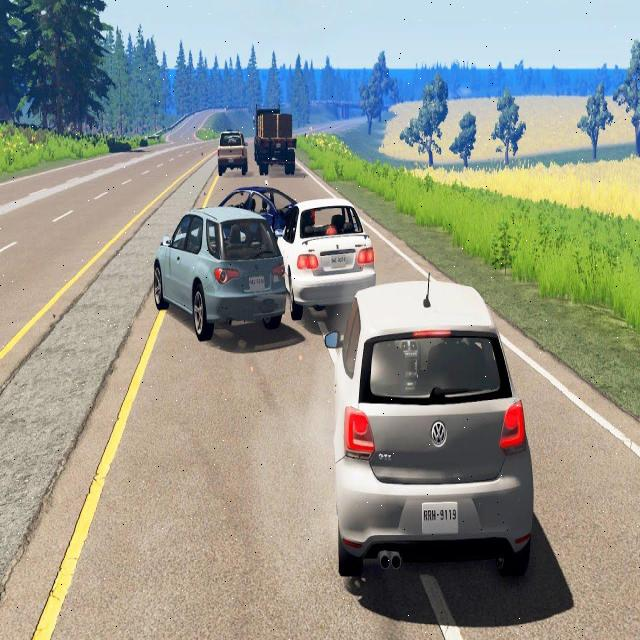moderate: (148, 173, 382, 344)
